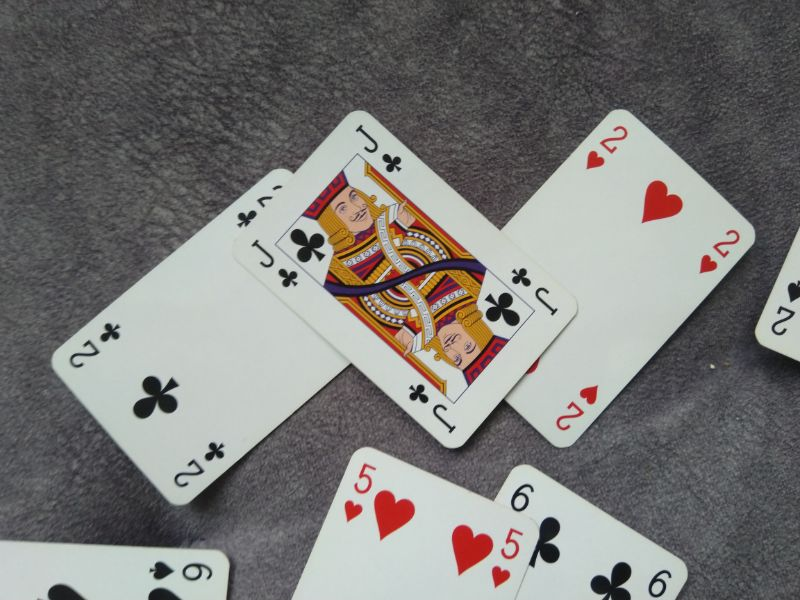2c: (171, 435, 227, 490), (68, 321, 125, 371)
2h: (553, 380, 599, 436), (694, 226, 743, 278), (582, 124, 631, 174)
5h: (489, 526, 524, 591), (342, 460, 376, 524)
6s: (143, 558, 215, 584)
Jc: (406, 378, 459, 434), (249, 235, 301, 290), (354, 121, 406, 174), (509, 264, 560, 316)
